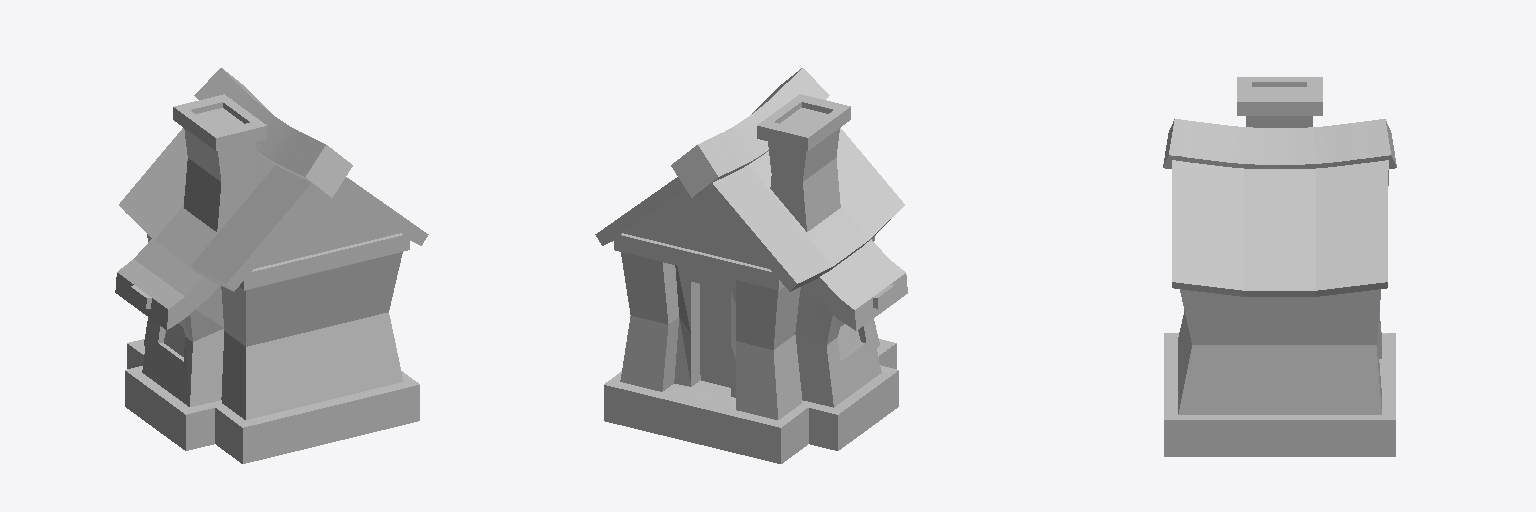
File: veryCuteHouse.obj
The picture shows the model from 3 angles: view 1: azimuth 30°, elevation 25°; view 2: azimuth 150°, elevation 25°; view 3: azimuth 270°, elevation 25°; orthographic projection.
Parts seen in each view (by area): view 1: Shape001; view 2: Shape001; view 3: Shape001.
Part boxes in pixels (bbox=[...]): Shape001: bbox=[115, 68, 428, 463]; Shape001: bbox=[595, 68, 907, 463]; Shape001: bbox=[1163, 77, 1396, 456].
Bounding box in the file's own units: 140 × 167 × 120.